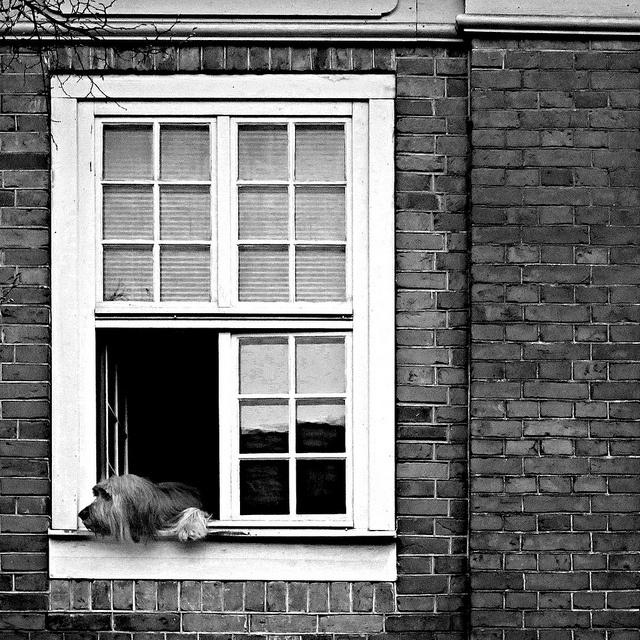dog: (76, 472, 208, 543)
